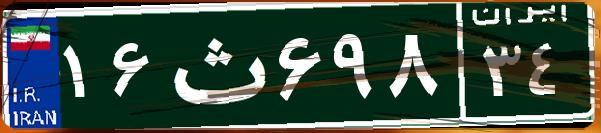1: (57, 26, 110, 107)
3: (475, 38, 525, 113)
4: (525, 38, 570, 115)
6: (273, 28, 330, 110), (110, 28, 158, 105)
8: (385, 28, 445, 110)
9: (330, 28, 385, 110)
ث: (158, 15, 273, 115)
